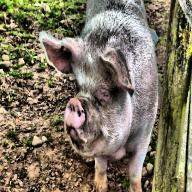boar: (38, 0, 160, 192)
